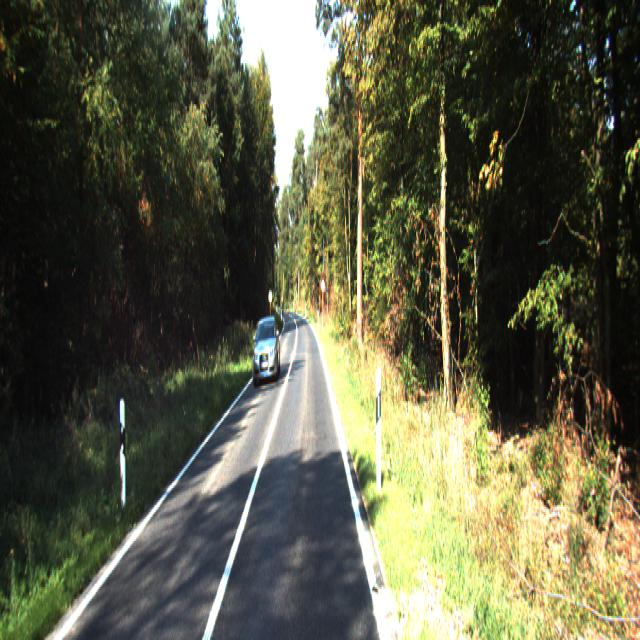Car: (251, 314, 282, 386)
